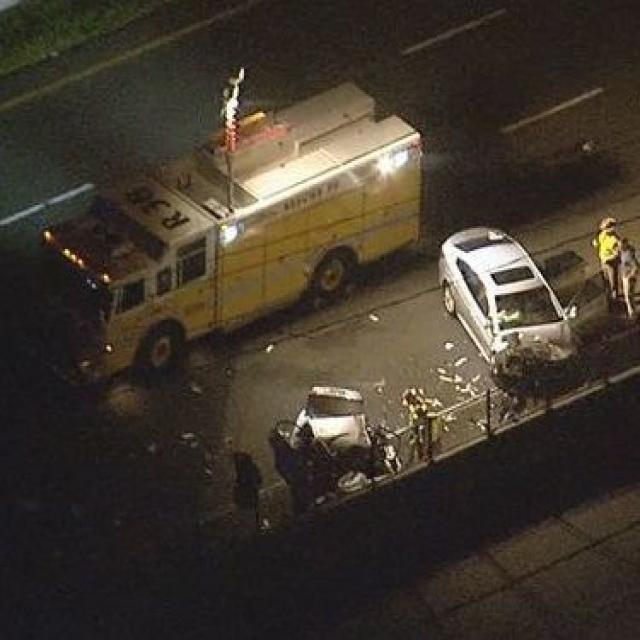traffic_incident: (434, 190, 584, 394), (282, 364, 391, 475)
